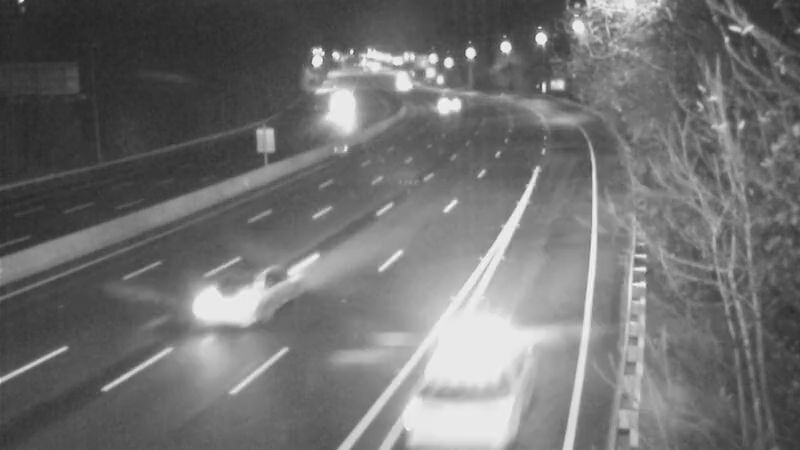vehicle: (168, 246, 278, 356), (414, 336, 524, 446), (427, 77, 477, 127), (315, 85, 365, 135)
